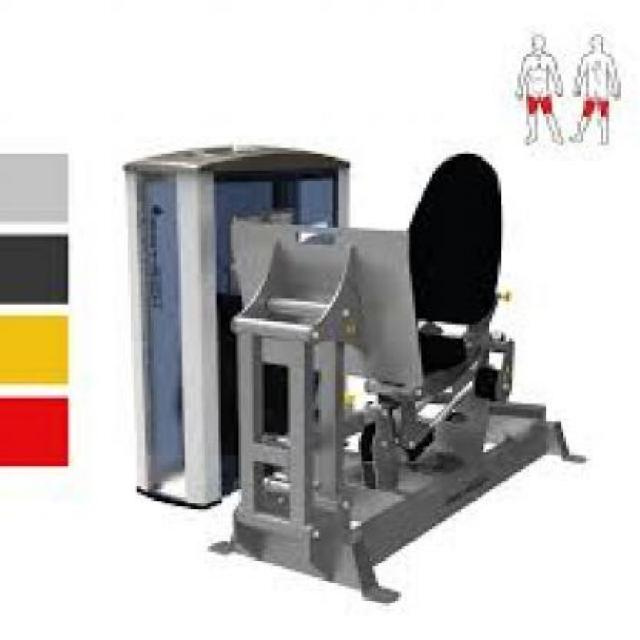leg press: (112, 118, 596, 624)
